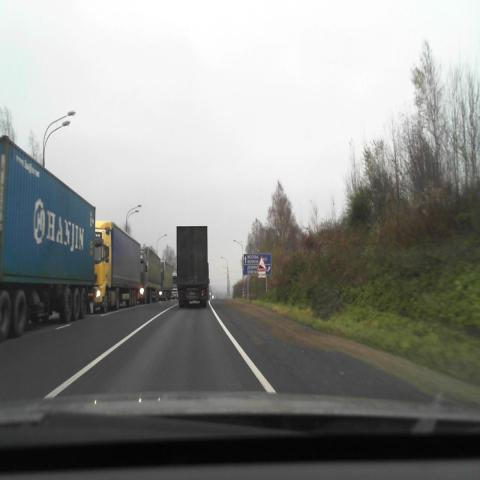1_13: (257, 254, 266, 270)
